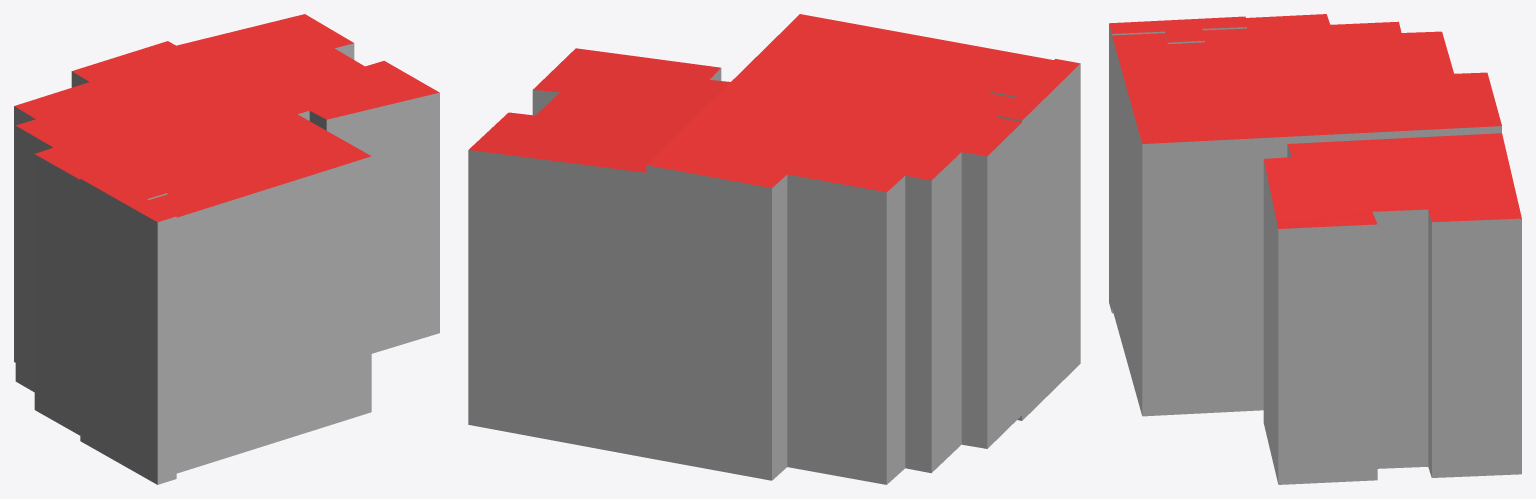
The model's file is DEBE3D04YY500009Fp.dae.
The picture shows the model from 3 angles, left to right: view 1: azimuth 30°, elevation 25°; view 2: azimuth 150°, elevation 25°; view 3: azimuth 270°, elevation 25°; orthographic projection. The views are drawn at different scales.
Size of the model in its own units: 22.96 by 20.17 by 15.06.
